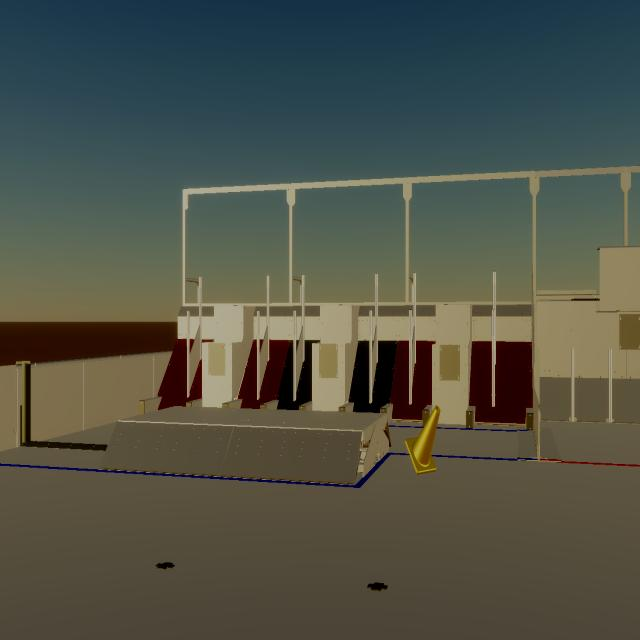frc_cone: (405, 405, 440, 475)
